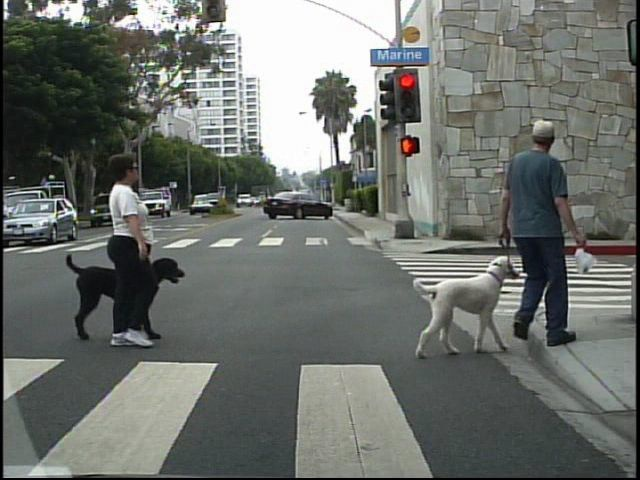person: (482, 116, 600, 359), (84, 146, 175, 350)
